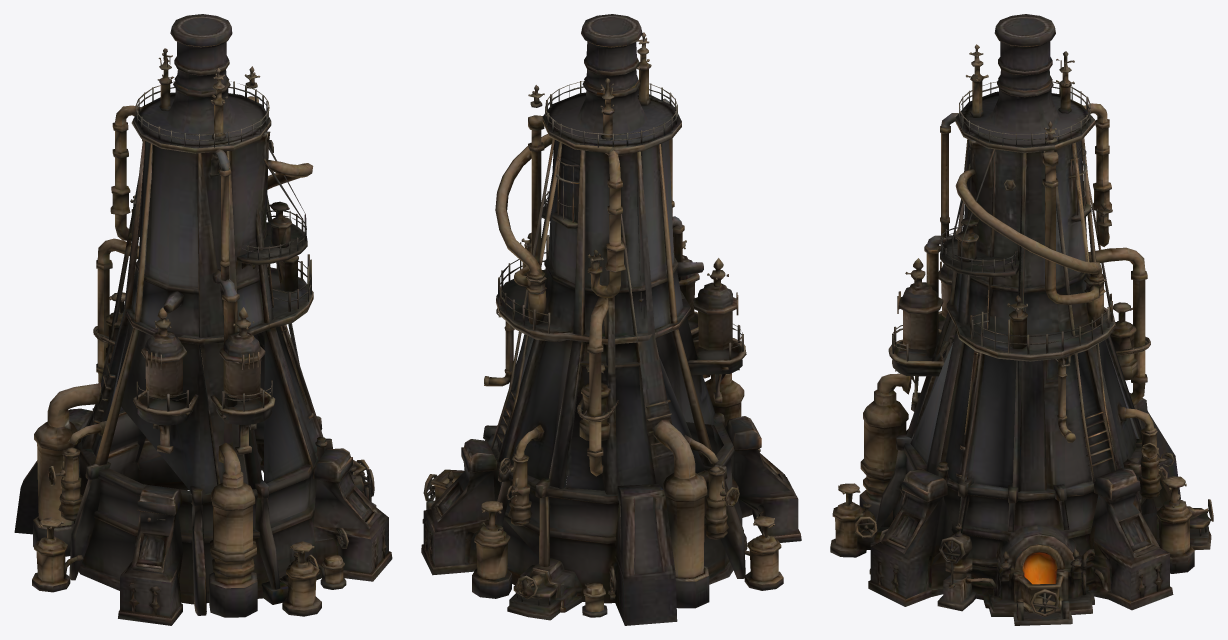
Rendered from blastFurnace.glb.
3 renders of one model, left to right at view 1: azimuth 30°, elevation 25°; view 2: azimuth 150°, elevation 25°; view 3: azimuth 270°, elevation 25°, orthographic.
Visible parts, largest first — view 1: tripo_node_b456adac-4a36-4009-aa0f-4f6aaccb75f7; view 2: tripo_node_b456adac-4a36-4009-aa0f-4f6aaccb75f7; view 3: tripo_node_b456adac-4a36-4009-aa0f-4f6aaccb75f7.
Part boxes in pixels (box(x1,y1,x2,y2)): tripo_node_b456adac-4a36-4009-aa0f-4f6aaccb75f7: box(14, 14, 392, 625); tripo_node_b456adac-4a36-4009-aa0f-4f6aaccb75f7: box(421, 14, 801, 625); tripo_node_b456adac-4a36-4009-aa0f-4f6aaccb75f7: box(830, 14, 1213, 625).
Size of the model in its own units: 0.6816 by 0.998 by 0.6699.
Materials: 1 (1 with a texture image).
